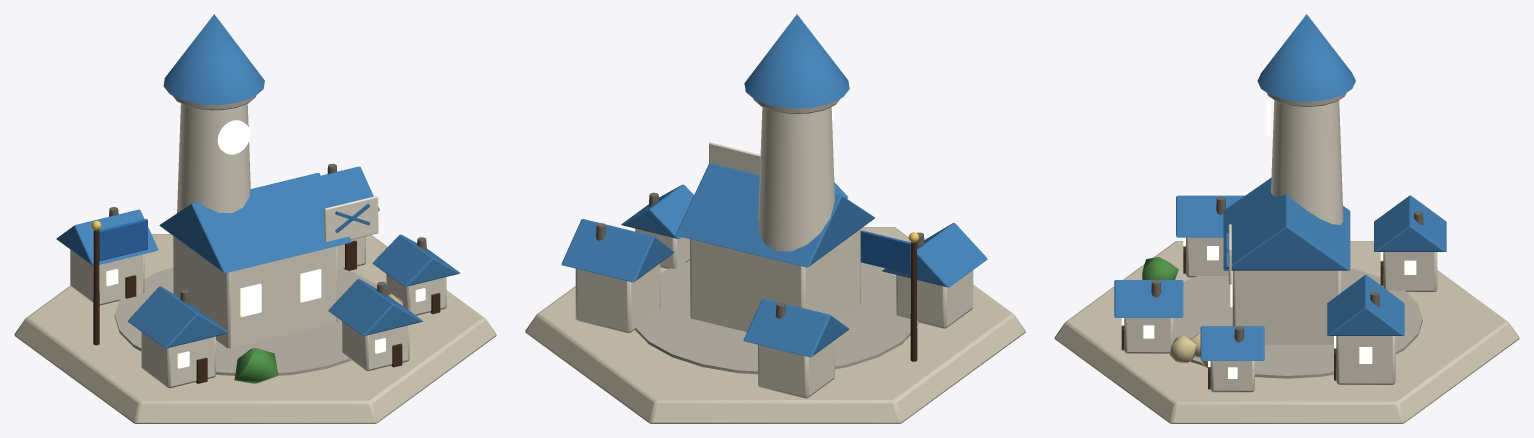
Rendered from district-mail.glb.
3 renders of one model, left to right at view 1: azimuth 30°, elevation 25°; view 2: azimuth 150°, elevation 25°; view 3: azimuth 270°, elevation 25°, orthographic. The views are drawn at different scales.
Visible parts, largest first — view 1: district-mail; view 2: district-mail; view 3: district-mail.
Boxes of the visible parts, x1=… form: district-mail: x1=14, y1=14, x2=496, y2=423; district-mail: x1=525, y1=14, x2=1025, y2=423; district-mail: x1=1054, y1=14, x2=1519, y2=423.
Size of the model in its own units: 1.64 by 1.39 by 1.89.
